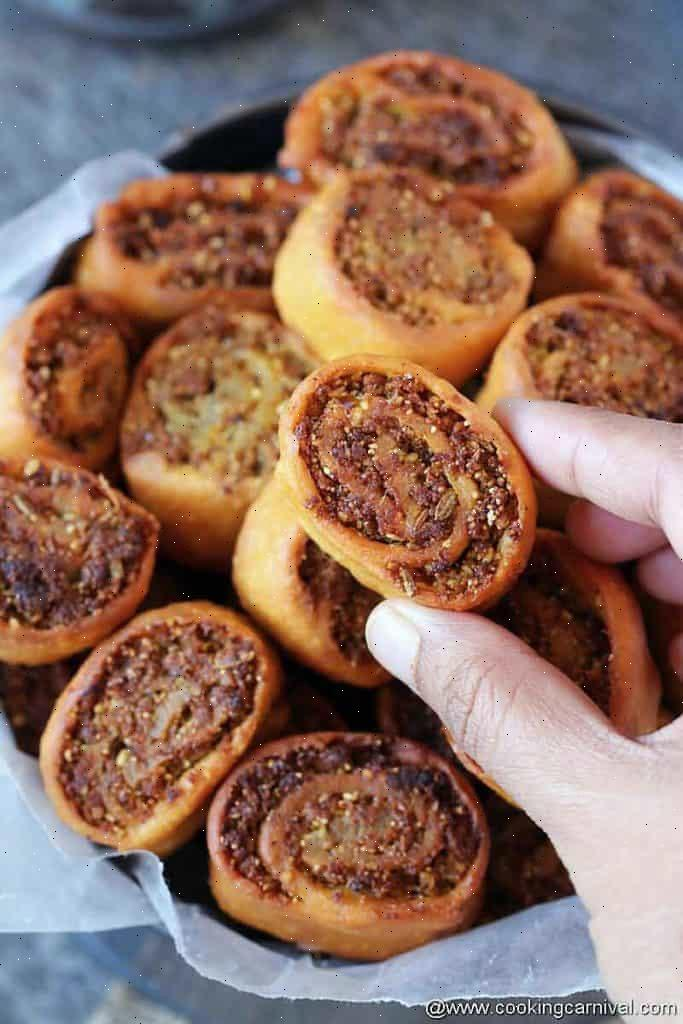bhakarwadi: (0, 40, 464, 939)
